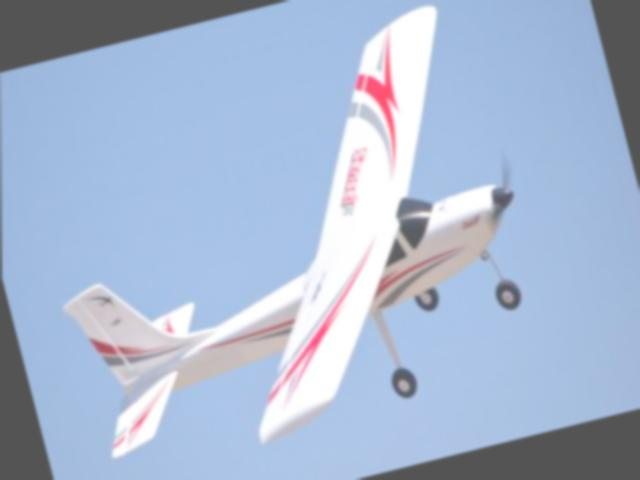uav: (9, 0, 559, 480)
